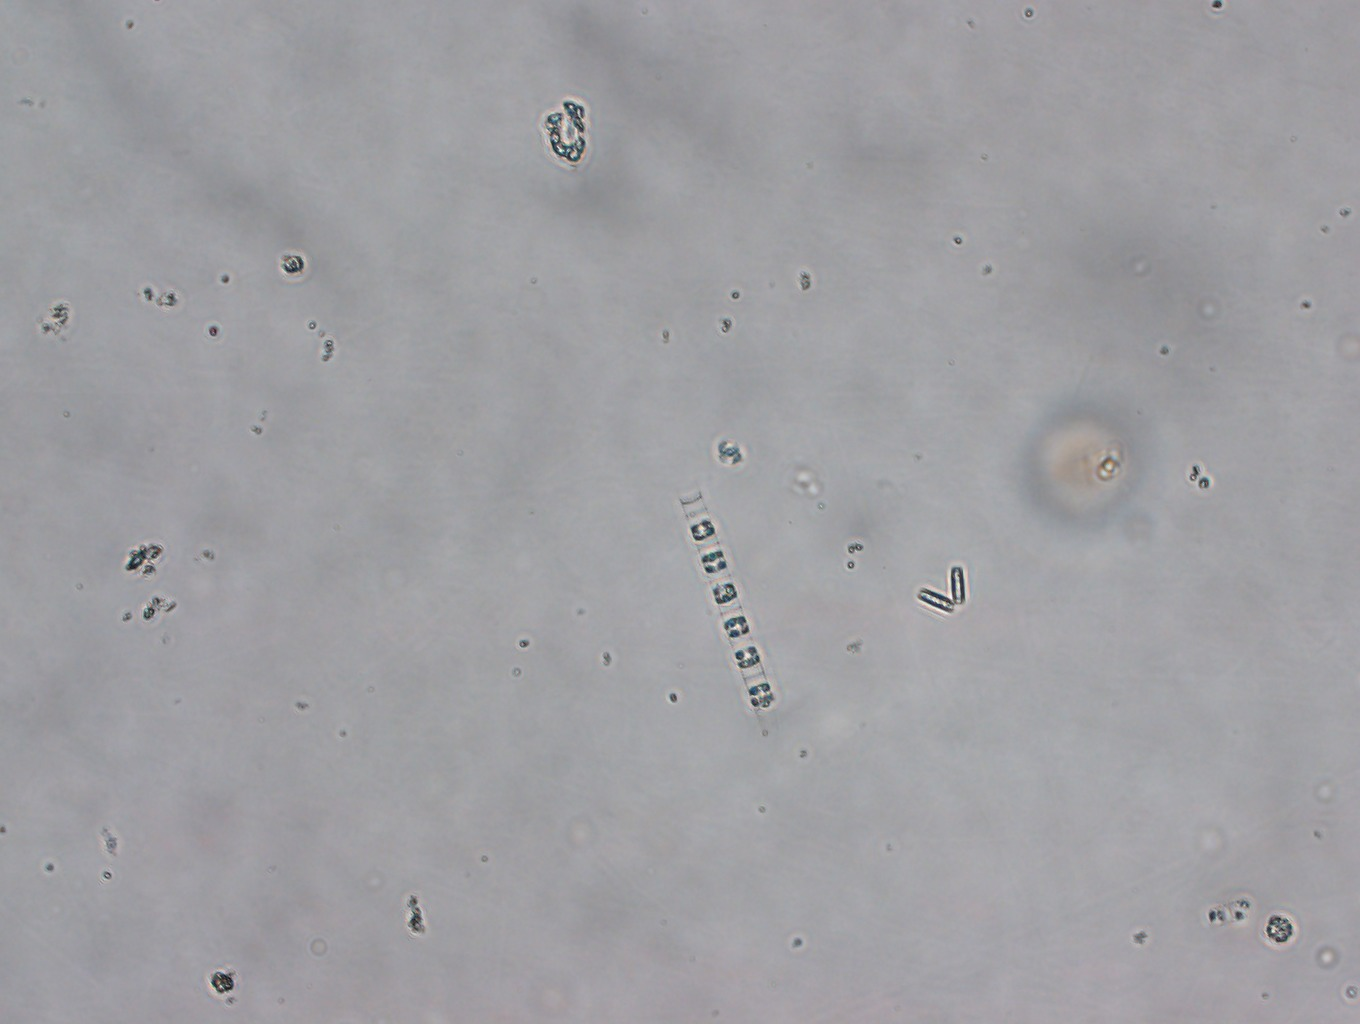skeletonema: (679, 487, 777, 720)
thalassionema nitzschioides: (917, 561, 964, 613)
